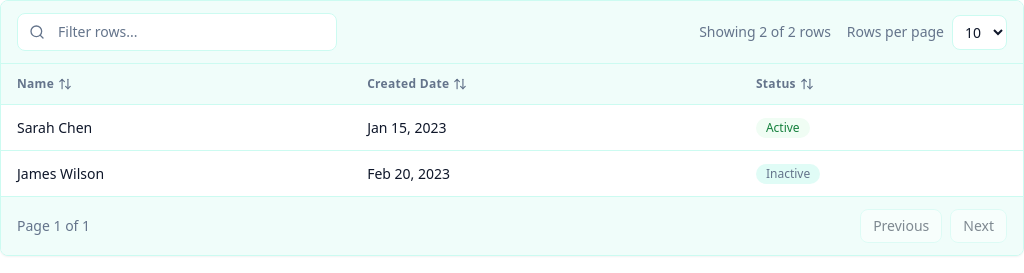
Test: DataTable › filters rows via toolbar search
Type "james" into the search field named "Filter table rows" at (177, 32), box [17,13,337,51]
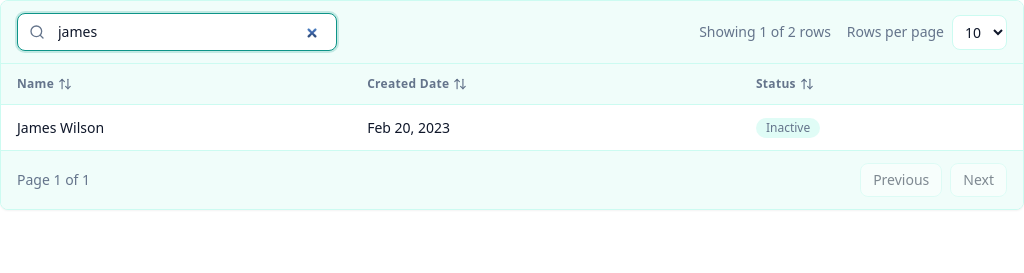
Check: the text "Sarah Chen" is gone
Check: the text "James Wilson" is shown, box [1,104,351,150]
